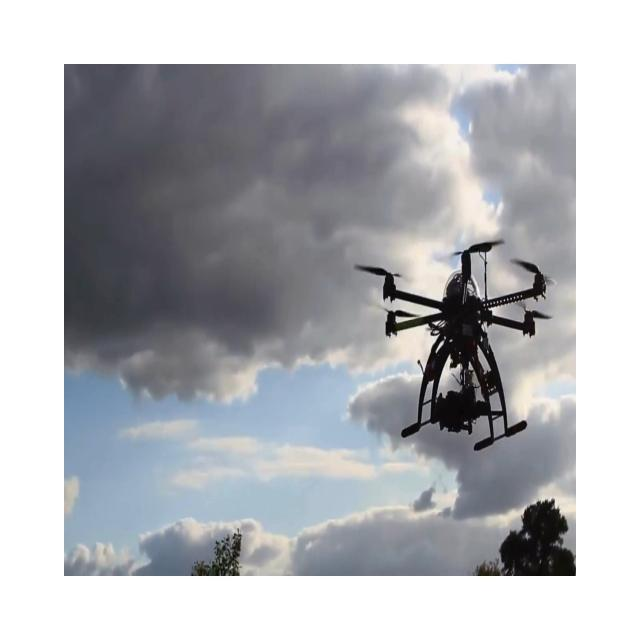drone: (353, 237, 556, 452)
